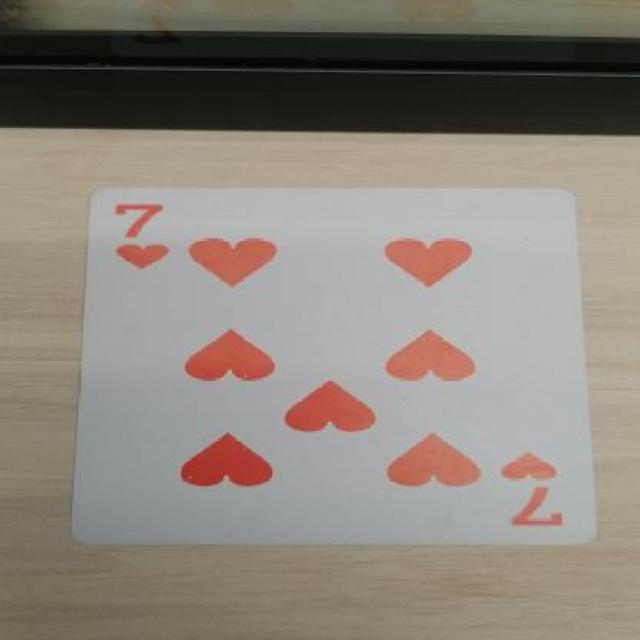7H: (99, 194, 190, 275), (502, 438, 578, 530)
